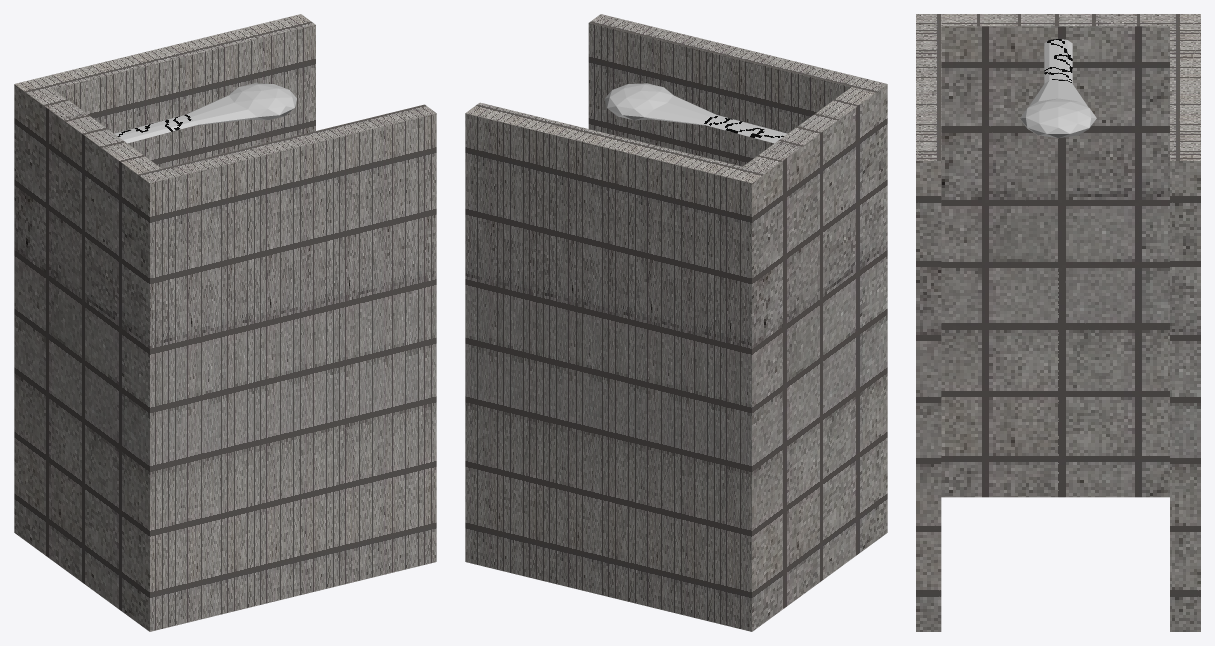
File: shower.glb
3 views of the same model, side by side, from view 1: azimuth 30°, elevation 25°; view 2: azimuth 150°, elevation 25°; view 3: azimuth 270°, elevation 25° (orthographic). The views are drawn at different scales.
Parts seen in each view (by area): view 1: shower_cabin, shower_nozzle; view 2: shower_cabin, shower_nozzle; view 3: shower_cabin, shower_nozzle.
Part boxes in pixels (<box>): shower_cabin: <box>14,14,436,631</box>; shower_nozzle: <box>114,83,296,143</box>; shower_cabin: <box>465,14,887,631</box>; shower_nozzle: <box>605,83,787,143</box>; shower_cabin: <box>916,14,1200,631</box>; shower_nozzle: <box>1020,39,1096,138</box>.
Size of the model in its own units: 4.36 by 6.52 by 3.57.
Materials: 2 (2 with a texture image).
